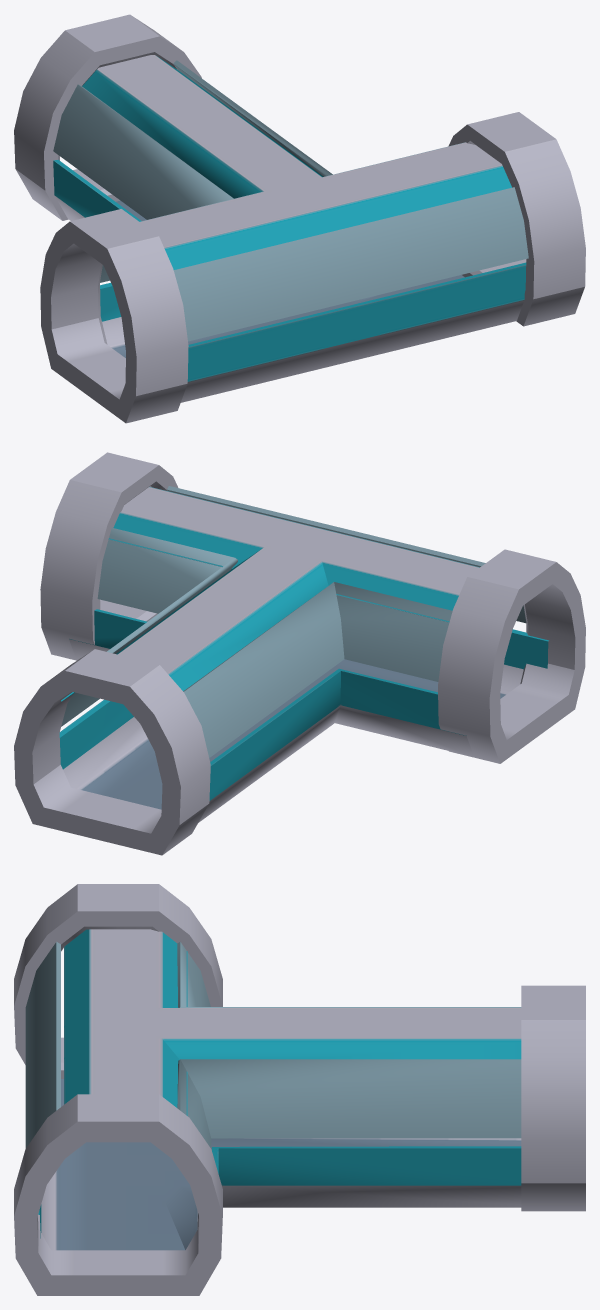
3 views of the same model, one above another, from view 1: azimuth 30°, elevation 25°; view 2: azimuth 150°, elevation 25°; view 3: azimuth 270°, elevation 25° (orthographic). The views are drawn at different scales.
Parts seen in each view (by area): view 1: tunnel_connect.001, tunnel_connect.003, tunnel_connect.002, tunnel_connect; view 2: tunnel_connect.001, tunnel_connect.002, tunnel_connect.003, tunnel_connect; view 3: tunnel_connect.001, tunnel_connect.003, tunnel_connect.002, tunnel_connect.
Boxes of the visible parts, x1,y1,x2,y2 form: tunnel_connect.001: [53, 55, 526, 402]; tunnel_connect.003: [53, 60, 528, 341]; tunnel_connect.002: [40, 112, 585, 423]; tunnel_connect: [14, 14, 201, 220]; tunnel_connect.001: [59, 487, 548, 822]; tunnel_connect.002: [40, 452, 585, 763]; tunnel_connect.003: [61, 486, 526, 757]; tunnel_connect: [14, 649, 210, 855]; tunnel_connect.001: [38, 929, 521, 1250]; tunnel_connect.003: [25, 942, 521, 1148]; tunnel_connect.002: [14, 884, 222, 1295]; tunnel_connect: [521, 985, 585, 1211].
Size of the model in its own units: 3.01 by 1.03 by 3.07.
1 material, 1 textured.
